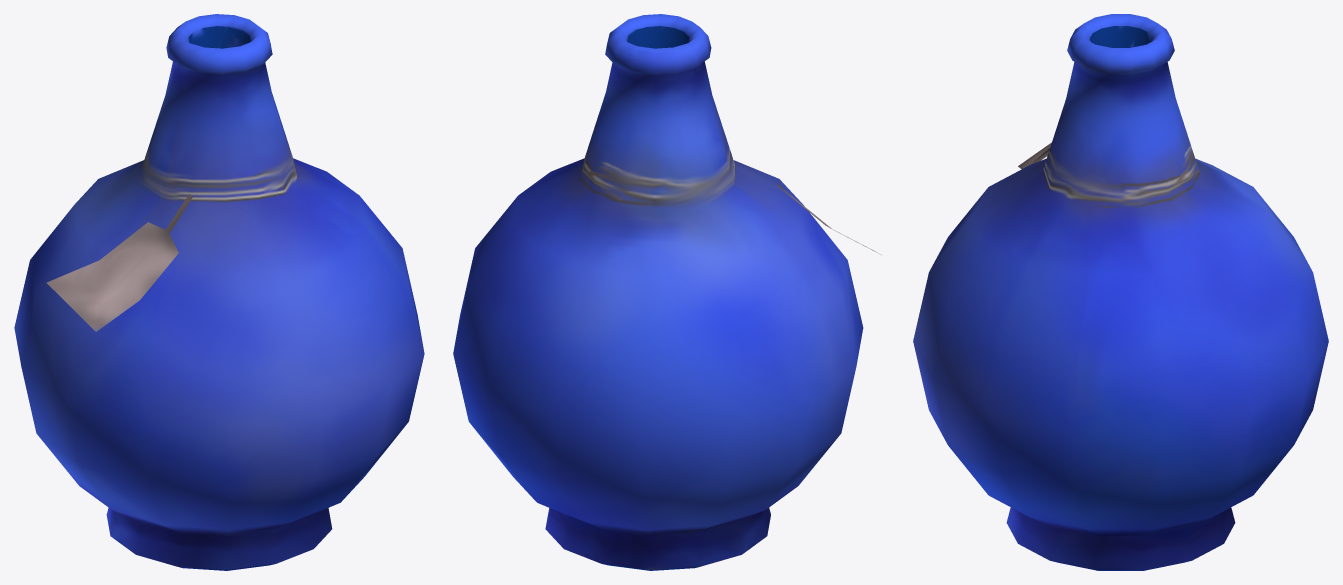
Rendered from Potion example.fbx.
The picture shows the model from 3 angles, left to right: view 1: azimuth 30°, elevation 25°; view 2: azimuth 150°, elevation 25°; view 3: azimuth 270°, elevation 25°; orthographic projection.
Parts seen in each view (by area): view 1: Potion; view 2: Potion; view 3: Potion.
Boxes of the visible parts, x1=… form: Potion: x1=14, y1=14, x2=424, y2=570; Potion: x1=453, y1=14, x2=880, y2=570; Potion: x1=913, y1=14, x2=1328, y2=570.
Size of the model in its own units: 206 by 265 by 200.
